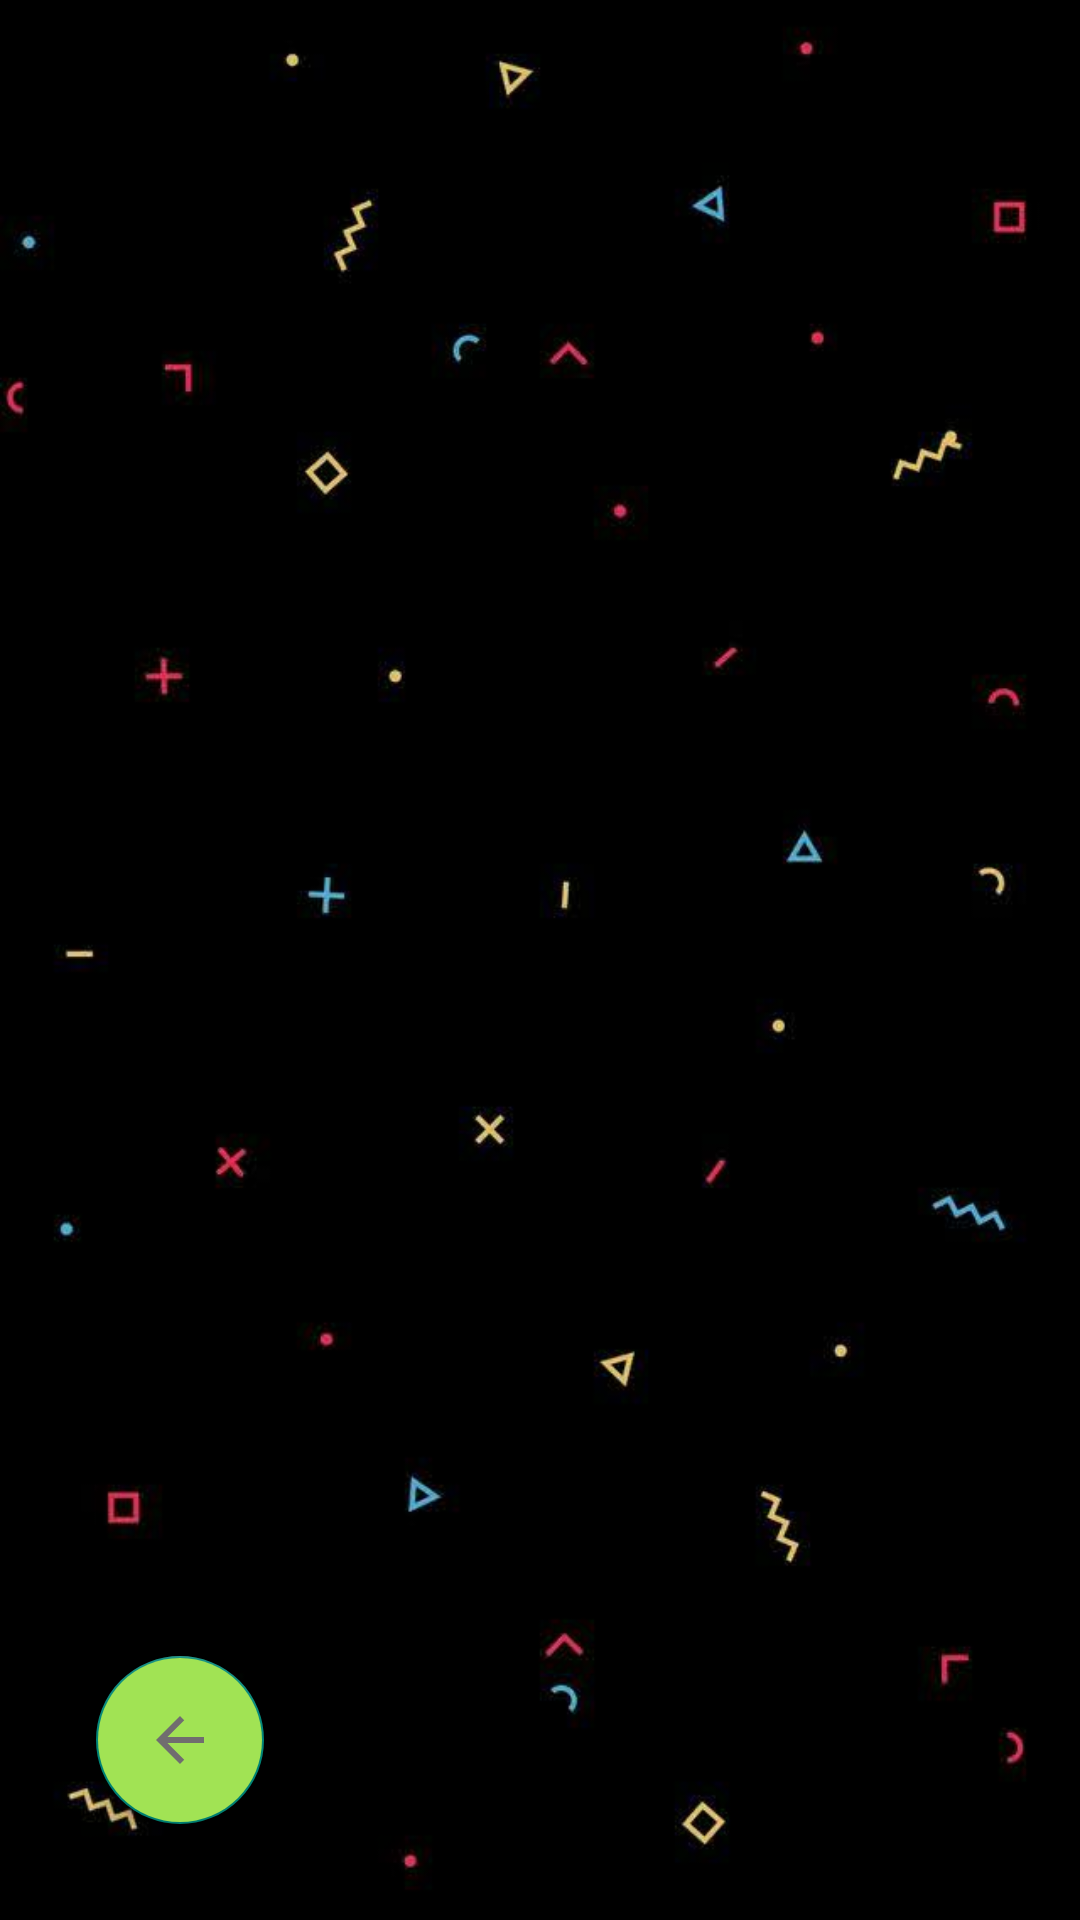

Where icons sit on this 1080 x 1920 app screen, as (x1, y1, x2, y2):
arrow back: (96, 1656, 264, 1824)
